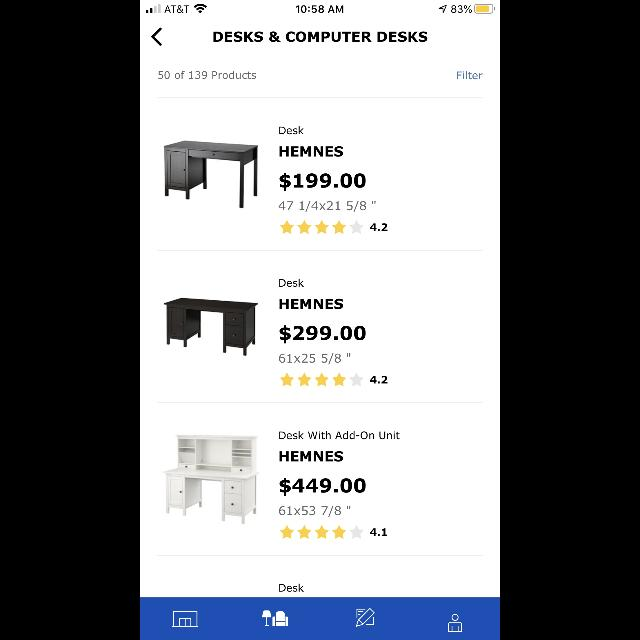icon: (280, 220, 364, 234), (280, 373, 364, 387), (280, 525, 364, 539), (356, 608, 376, 626), (448, 614, 462, 632), (152, 28, 162, 46)
image: (162, 435, 260, 525), (164, 140, 258, 208), (164, 298, 258, 356), (262, 610, 288, 626), (172, 611, 198, 627)
text: (214, 32, 428, 42), (280, 173, 366, 191), (280, 325, 366, 343), (280, 478, 366, 496), (278, 202, 376, 212), (280, 432, 400, 440), (158, 71, 256, 79), (279, 146, 343, 158), (279, 298, 343, 310), (280, 354, 350, 364), (280, 506, 350, 516), (279, 451, 343, 461), (457, 72, 483, 80), (278, 126, 304, 134), (280, 279, 304, 287), (280, 584, 304, 592), (370, 223, 388, 231), (370, 376, 388, 384), (369, 528, 386, 536)
uppertaskbar: (140, 0, 500, 14)
